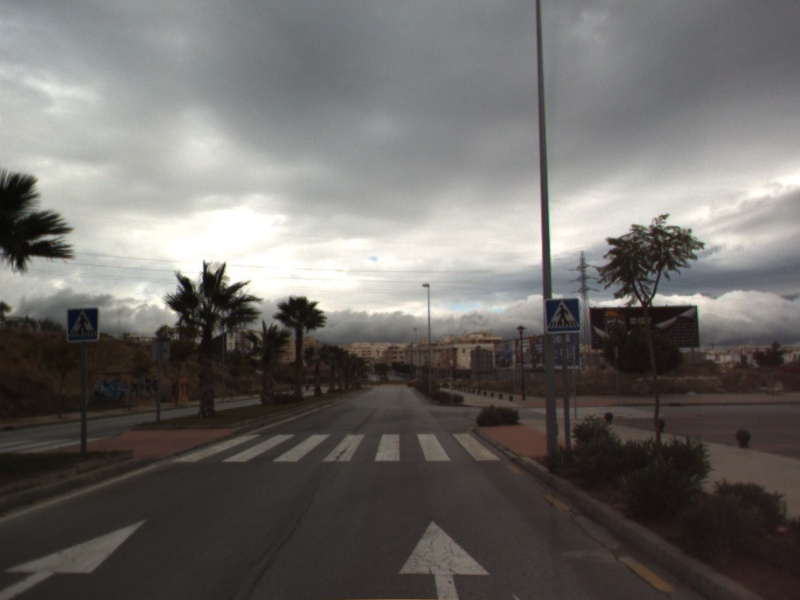STRAIGHT: (1, 517, 150, 600), (395, 518, 492, 600)
